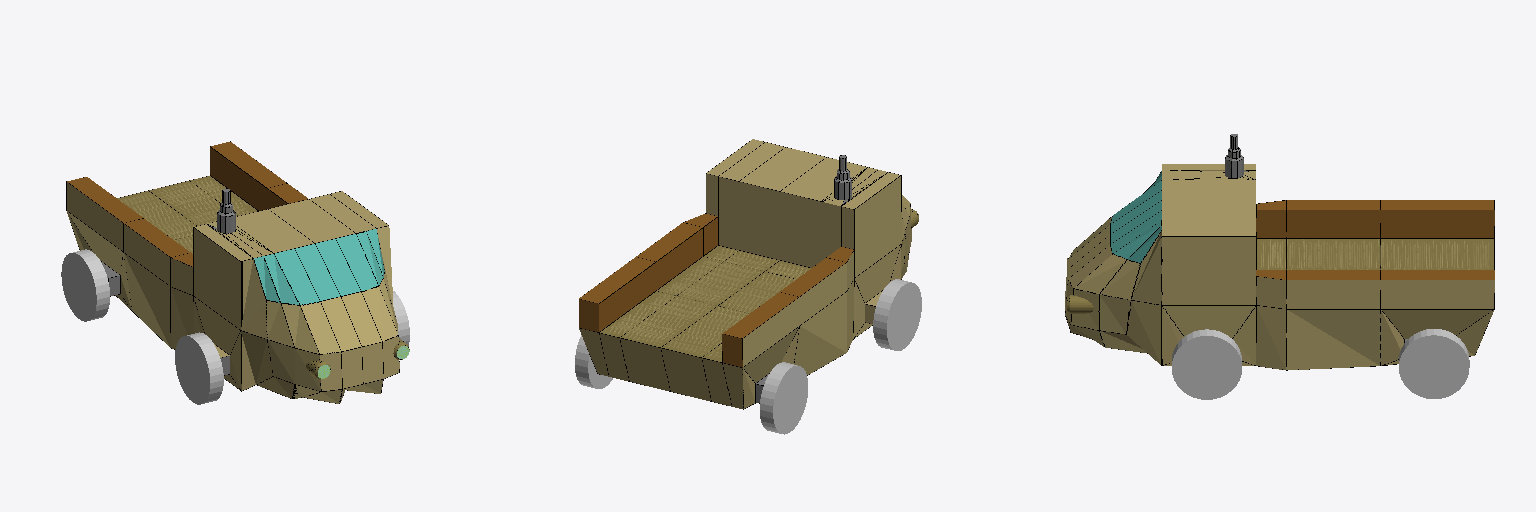
3 views of the same model, side by side, from view 1: azimuth 30°, elevation 25°; view 2: azimuth 150°, elevation 25°; view 3: azimuth 270°, elevation 25° (orthographic).
Visible parts, largest first — view 1: truck3_Cube.005, truck2_wheelFR.001_Cube.013, truck2_wheelBR.001_Cube.014, headlights_Cylinder; view 2: truck3_Cube.005, truck2_wheelFR.001_Cube.013, truck2_wheelBR.001_Cube.014, truck2_wheelBL.001_Cube.012; view 3: truck3_Cube.005, truck2_wheelBL.001_Cube.012, truck2_wheelFl.001_Cube.011.
Boxes of the visible parts, x1=… form: truck3_Cube.005: x1=66, y1=141, x2=399, y2=403; truck2_wheelFR.001_Cube.013: x1=175, y1=332, x2=223, y2=404; truck2_wheelBR.001_Cube.014: x1=61, y1=249, x2=109, y2=321; headlights_Cylinder: x1=306, y1=338, x2=409, y2=378; truck3_Cube.005: x1=579, y1=139, x2=911, y2=409; truck2_wheelFR.001_Cube.013: x1=873, y1=279, x2=921, y2=350; truck2_wheelBR.001_Cube.014: x1=760, y1=362, x2=807, y2=434; truck2_wheelBL.001_Cube.012: x1=575, y1=335, x2=612, y2=388; truck3_Cube.005: x1=1065, y1=134, x2=1494, y2=370; truck2_wheelBL.001_Cube.012: x1=1399, y1=329, x2=1469, y2=398; truck2_wheelFl.001_Cube.011: x1=1172, y1=329, x2=1241, y2=399.
Size of the model in its own units: 0.9775 by 0.8914 by 1.82.
Materials: 3 (2 with a texture image).